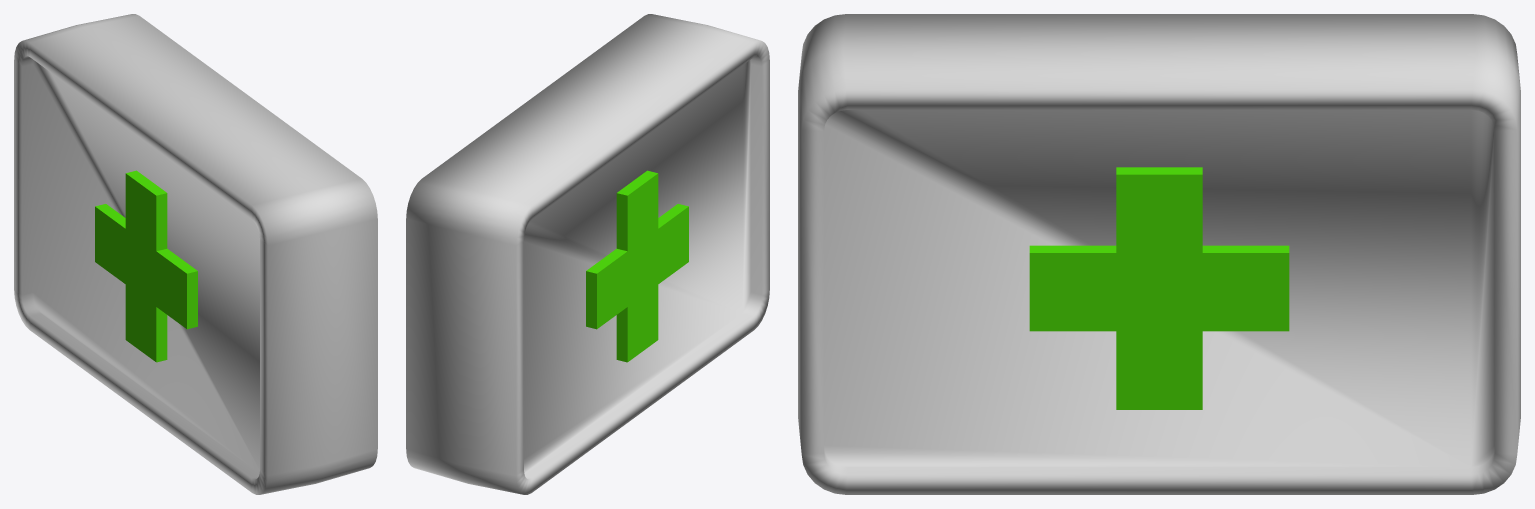
Rendered from medkit.fbx.
3 views of the same model, side by side, from view 1: azimuth 30°, elevation 25°; view 2: azimuth 150°, elevation 25°; view 3: azimuth 270°, elevation 25° (orthographic). The views are drawn at different scales.
Parts seen in each view (by area): view 1: Case, Cross; view 2: Case, Cross; view 3: Case, Cross.
Part boxes in pixels (<box>): Case: <box>14,14,377,494</box>; Cross: <box>95,170,197,362</box>; Case: <box>406,14,769,494</box>; Cross: <box>586,170,688,362</box>; Case: <box>798,14,1520,494</box>; Cross: <box>1029,167,1289,409</box>.
Bounding box in the file's own units: 20 × 50.5 × 80.8.
